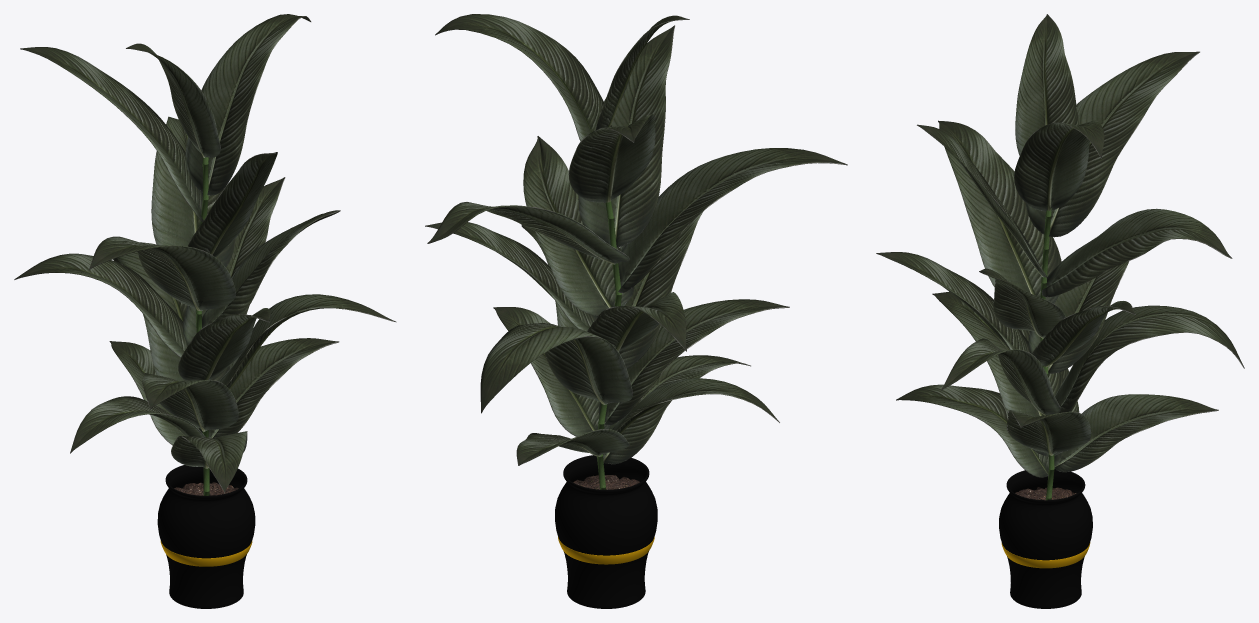
The model's file is plant.glb.
3 renders of one model, left to right at view 1: azimuth 30°, elevation 25°; view 2: azimuth 150°, elevation 25°; view 3: azimuth 270°, elevation 25°, orthographic. The views are drawn at different scales.
Parts seen in each view (by area): view 1: Circle_1, Hoja.004_5, Hoja.006_7, Hoja.010_11, Hoja.002_3, Hoja.016_17, Hoja.014_15, Hoja.009_10, Hoja.018_19, Hoja.008_9, Hoja.007_8, Hoja.005_6 (+8 smaller); view 2: Circle_1, Hoja.011_12, Hoja.006_7, Hoja.016_17, Hoja.005_6, Hoja.004_5, Hoja.010_11, Hoja.014_15, Hoja.018_19, Hoja.002_3, Hoja.009_10, Hoja.003_4 (+7 smaller); view 3: Circle_1, Hoja.006_7, Hoja.010_11, Hoja.018_19, Hoja.004_5, Hoja.007_8, Hoja.011_12, Hoja.013_14, Hoja.017_18, Hoja.012_13, Hoja.008_9, Hoja.009_10 (+7 smaller).
Boxes of the visible parts, <box> form: Circle_1: <box>157,465,255,608</box>; Hoja.004_5: <box>185,14,311,195</box>; Hoja.006_7: <box>89,236,235,310</box>; Hoja.010_11: <box>20,47,203,222</box>; Hoja.002_3: <box>14,253,187,357</box>; Hoja.016_17: <box>188,152,277,257</box>; Hoja.014_15: <box>142,373,238,431</box>; Hoja.009_10: <box>198,338,339,439</box>; Hoja.018_19: <box>151,116,235,267</box>; Hoja.008_9: <box>178,308,270,380</box>; Hoja.007_8: <box>126,43,220,157</box>; Hoja.005_6: <box>202,210,340,328</box>; Circle_1: <box>555,455,657,608</box>; Hoja.011_12: <box>480,323,632,413</box>; Hoja.006_7: <box>614,148,847,293</box>; Hoja.016_17: <box>578,25,674,247</box>; Hoja.005_6: <box>523,136,634,316</box>; Hoja.004_5: <box>435,14,611,141</box>; Hoja.010_11: <box>568,114,655,202</box>; Hoja.014_15: <box>598,299,789,425</box>; Hoja.018_19: <box>427,202,629,264</box>; Hoja.002_3: <box>587,292,686,351</box>; Hoja.009_10: <box>493,307,609,436</box>; Hoja.003_4: <box>425,222,597,331</box>; Circle_1: <box>999,469,1092,608</box>; Hoja.006_7: <box>938,120,1061,303</box>; Hoja.010_11: <box>1025,51,1199,237</box>; Hoja.018_19: <box>1041,208,1232,297</box>; Hoja.004_5: <box>1014,120,1104,211</box>; Hoja.007_8: <box>1015,14,1079,155</box>; Hoja.011_12: <box>1055,305,1244,412</box>; Hoja.013_14: <box>1054,394,1218,472</box>; Hoja.017_18: <box>896,384,1048,477</box>; Hoja.012_13: <box>941,338,1060,415</box>; Hoja.008_9: <box>876,252,1029,352</box>; Hoja.009_10: <box>1006,410,1091,455</box>.
Bounding box in the file's own units: 0.4289 × 0.7487 × 0.4608.
Materials: 5 (3 with a texture image).
